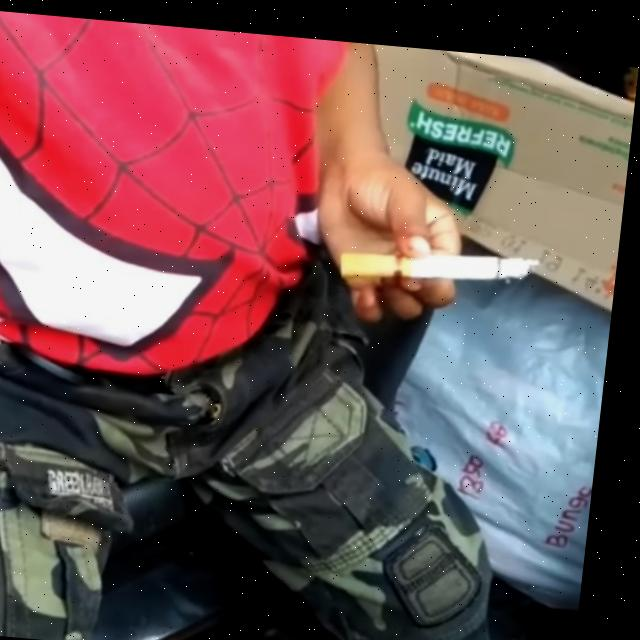cigarette: (343, 233, 548, 284)
